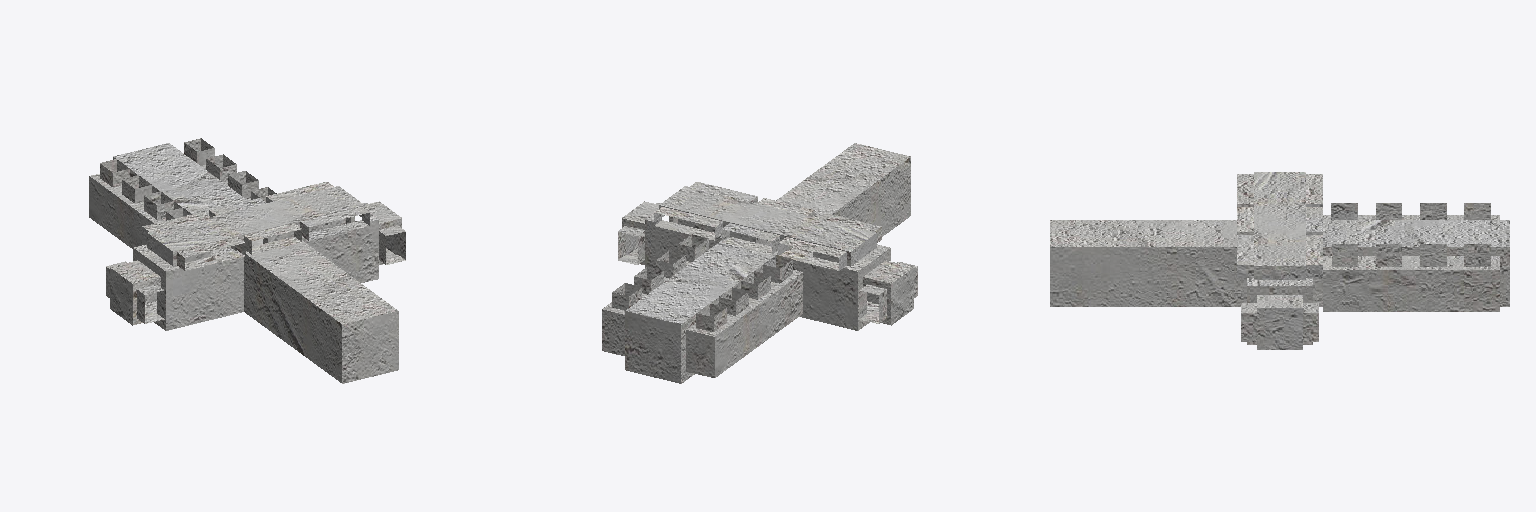
The picture shows the model from 3 angles: view 1: azimuth 30°, elevation 25°; view 2: azimuth 150°, elevation 25°; view 3: azimuth 270°, elevation 25°; orthographic projection.
Parts seen in each view (by area): view 1: Piano.020_Piano.029; view 2: Piano.020_Piano.029; view 3: Piano.020_Piano.029.
Boxes of the visible parts, x1,y1,x2,y2 form: Piano.020_Piano.029: [89, 138, 405, 383]; Piano.020_Piano.029: [602, 143, 917, 383]; Piano.020_Piano.029: [1050, 172, 1509, 349].
Bounding box in the file's own units: 399 × 105 × 588.
1 materials, 1 textured.